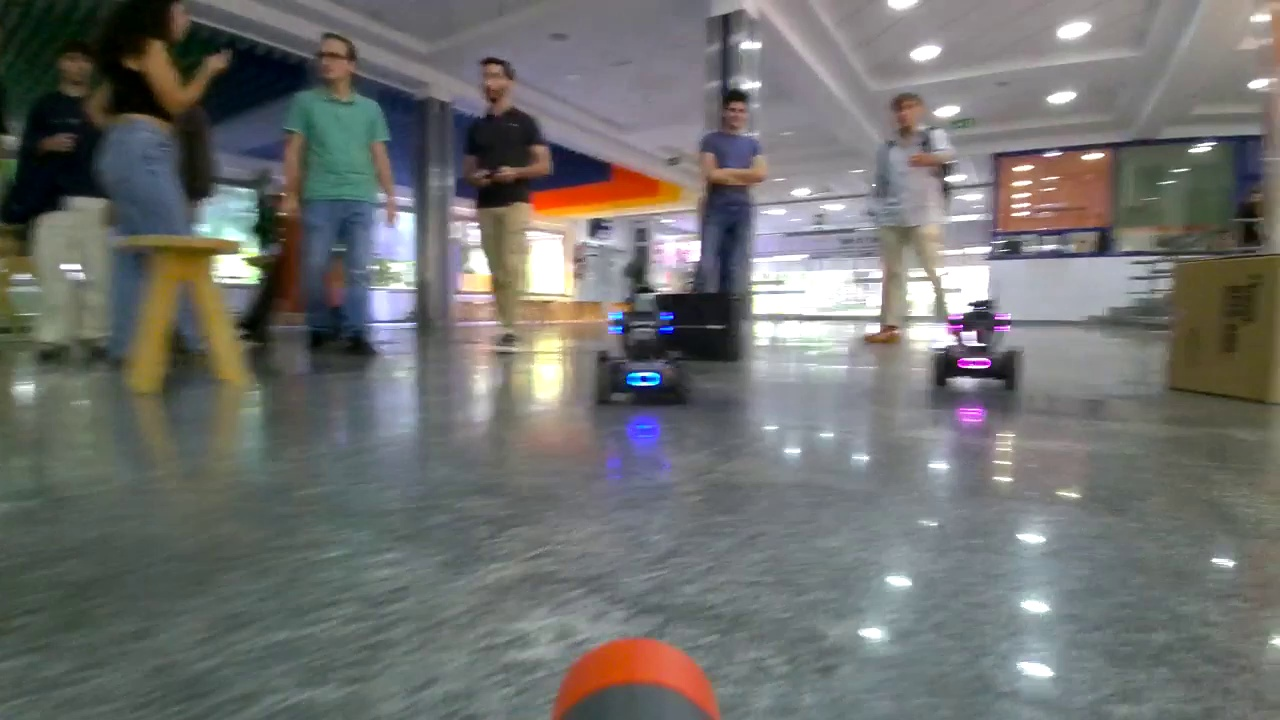robot: (596, 310, 690, 401), (939, 297, 1016, 392)
